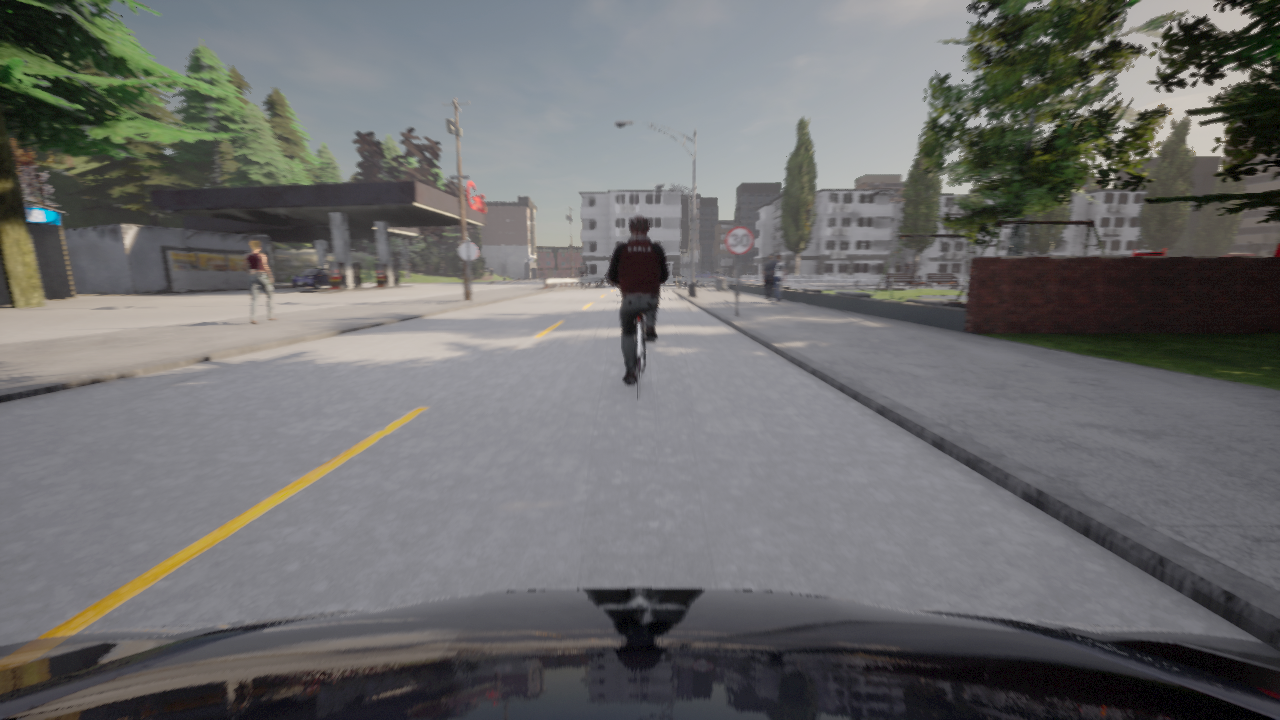cyclist: (0, 588, 1279, 719), (625, 313, 655, 399), (291, 268, 330, 288), (599, 274, 619, 287), (687, 271, 711, 277), (708, 272, 730, 277), (581, 275, 584, 290), (641, 311, 646, 316)
pedestrian: (243, 239, 278, 323), (770, 254, 785, 302), (762, 254, 774, 301)
